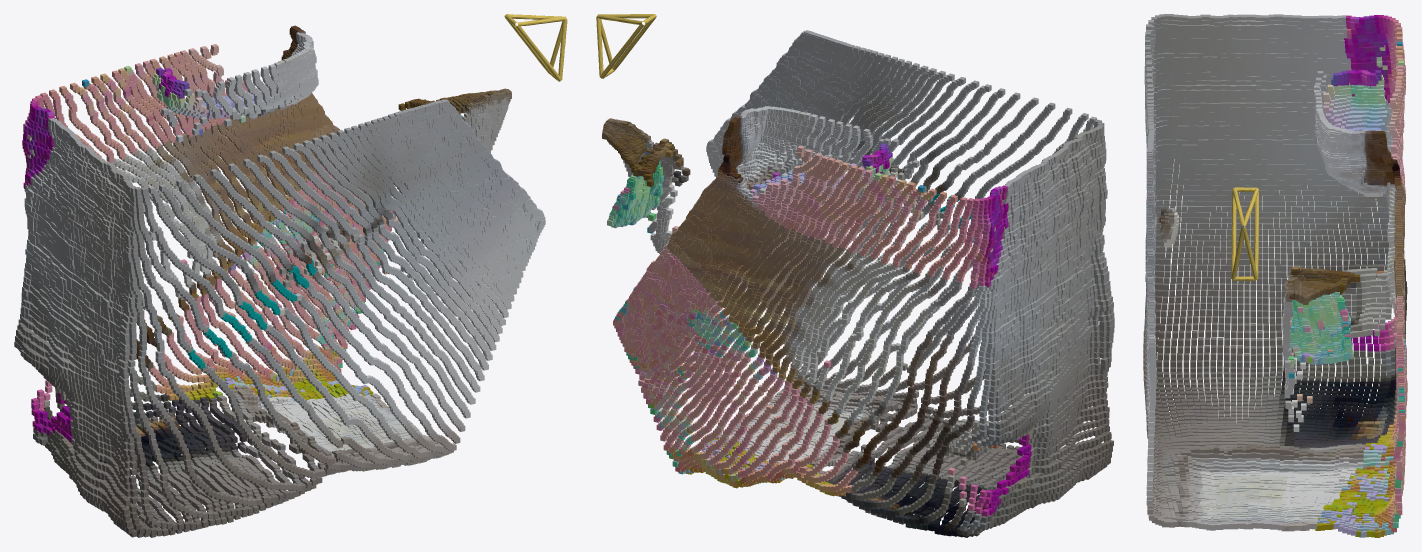
The model's file is pred_2-compressed.glb.
The picture shows the model from 3 angles, left to right: view 1: azimuth 30°, elevation 25°; view 2: azimuth 150°, elevation 25°; view 3: azimuth 270°, elevation 25°; orthographic projection. The views are drawn at different scales.
Size of the model in its own units: 5.12 by 3.97 by 2.34.
